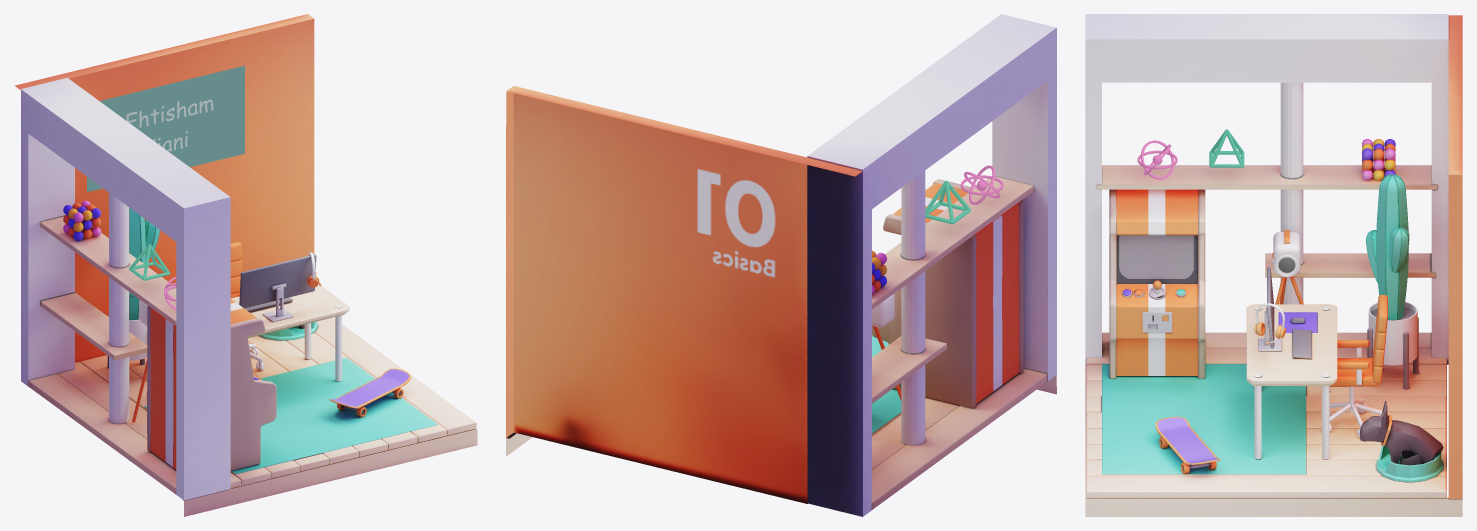
The model's file is profile.glb.
3 views of the same model, side by side, from view 1: azimuth 30°, elevation 25°; view 2: azimuth 150°, elevation 25°; view 3: azimuth 270°, elevation 25° (orthographic). The views are drawn at different scales.
Visible parts, largest first — view 1: Level, Plane, Cactus, Text, Pyramid; view 2: Level, Pyramid, React; view 3: Level, Cactus, Sudo, Camera.001, SudoHead, React, Pyramid.
Part boxes in pixels (left/top/right/bottom): Level: left=15, top=14, right=477, bottom=516; Plane: left=87, top=65, right=244, bottom=192; Cactus: left=129, top=208, right=159, bottom=320; Text: left=126, top=99, right=213, bottom=151; Pyramid: left=129, top=244, right=170, bottom=280; Level: left=506, top=14, right=1056, bottom=516; Pyramid: left=925, top=180, right=970, bottom=224; React: left=960, top=165, right=1003, bottom=204; Level: left=1085, top=14, right=1462, bottom=516; Cactus: left=1365, top=174, right=1409, bottom=319; Sudo: left=1385, top=420, right=1443, bottom=465; Camera.001: left=1272, top=230, right=1300, bottom=277; SudoHead: left=1359, top=401, right=1391, bottom=445; React: left=1137, top=140, right=1177, bottom=179; Pyramid: left=1209, top=129, right=1244, bottom=167.
Bounding box in the file's own units: 2 × 2.01 × 2.
7 materials, 2 textured.
